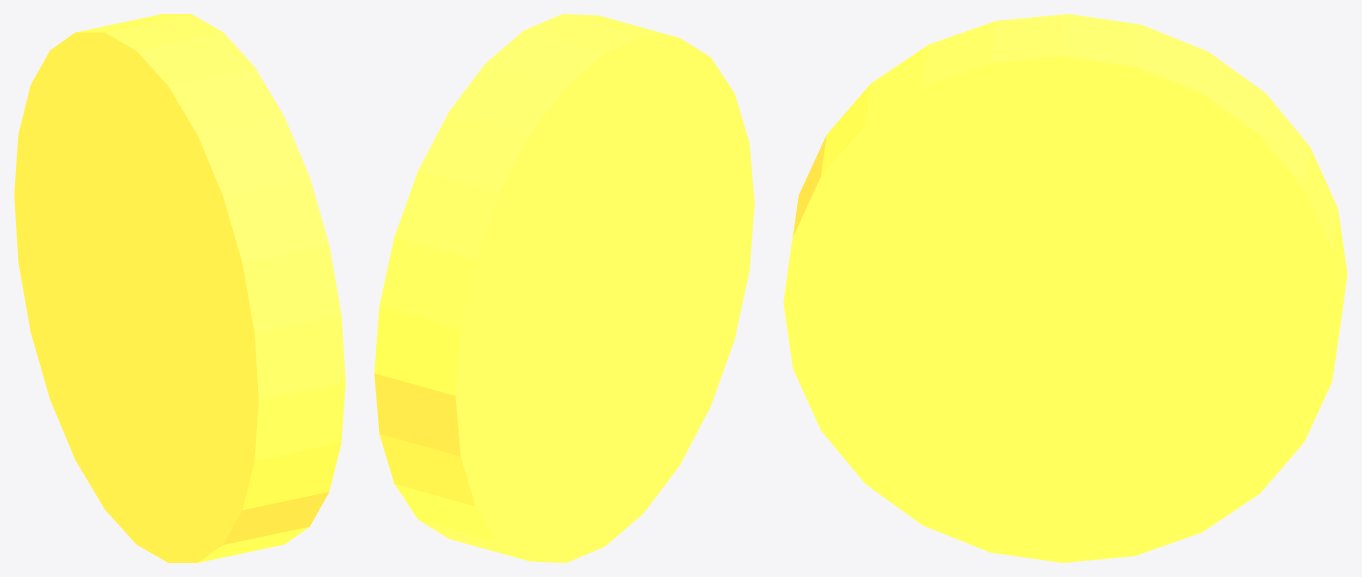
File: coin_city_4_lev5.glb
3 views of the same model, side by side, from view 1: azimuth 30°, elevation 25°; view 2: azimuth 150°, elevation 25°; view 3: azimuth 270°, elevation 25° (orthographic). The views are drawn at different scales.
Visible parts, largest first — view 1: coin_city_4_lev5; view 2: coin_city_4_lev5; view 3: coin_city_4_lev5.
Part boxes in pixels (left/top/right/bottom): coin_city_4_lev5: left=14, top=14, right=345, bottom=562; coin_city_4_lev5: left=374, top=14, right=754, bottom=562; coin_city_4_lev5: left=783, top=14, right=1347, bottom=562.
Size of the model in its own units: 0.1323 by 0.56 by 0.5649.
